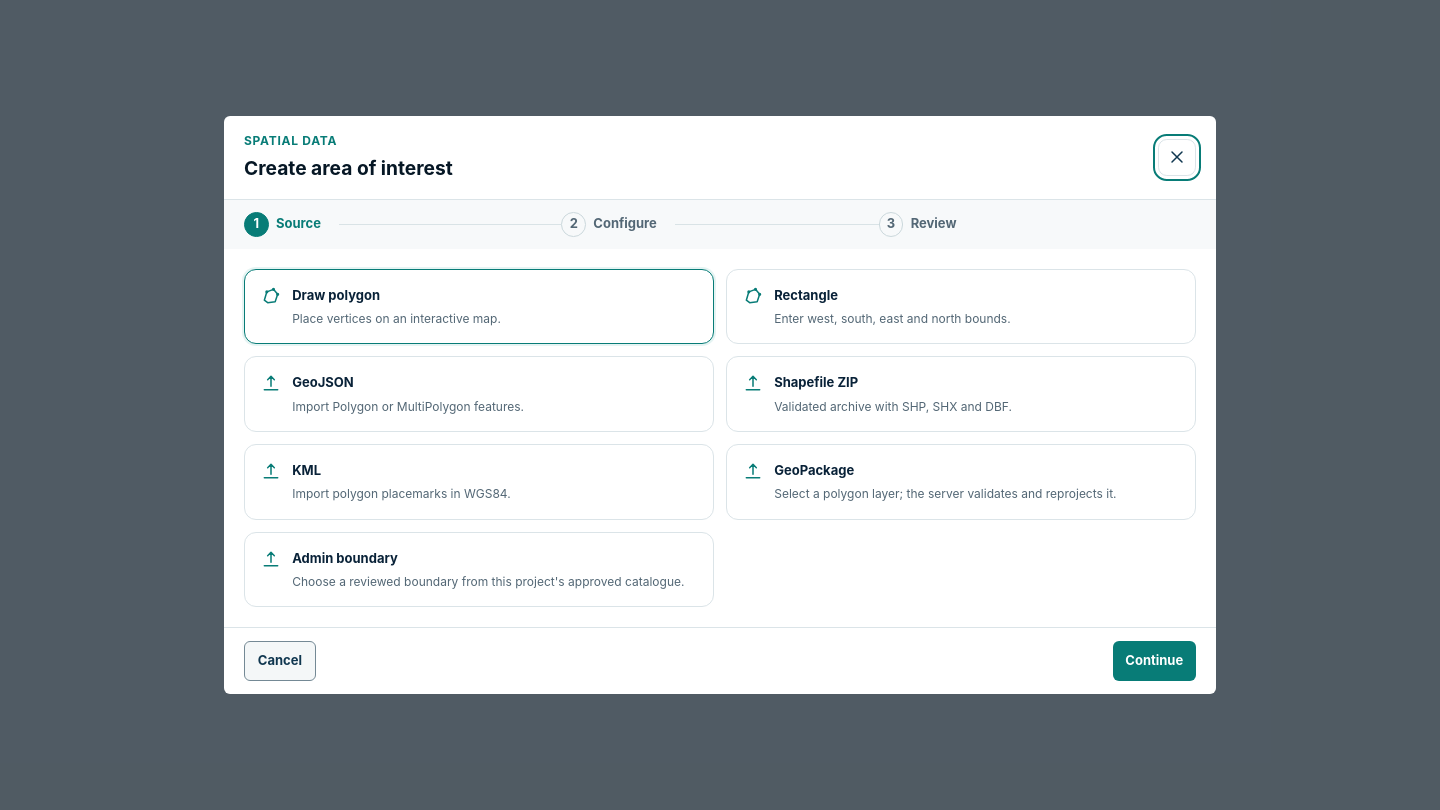
AOI creation wizard › exposes GeoPackage upload and approved administrative boundaries
Expected: the button "GeoPackage" is enabled, [726, 444, 1196, 520]
Expected: the button "Admin boundary" is enabled, [244, 532, 714, 607]
Click the button "GeoJSON Import Polygon or MultiPolygon features.". click: (323, 382)
box: [244, 356, 714, 432]
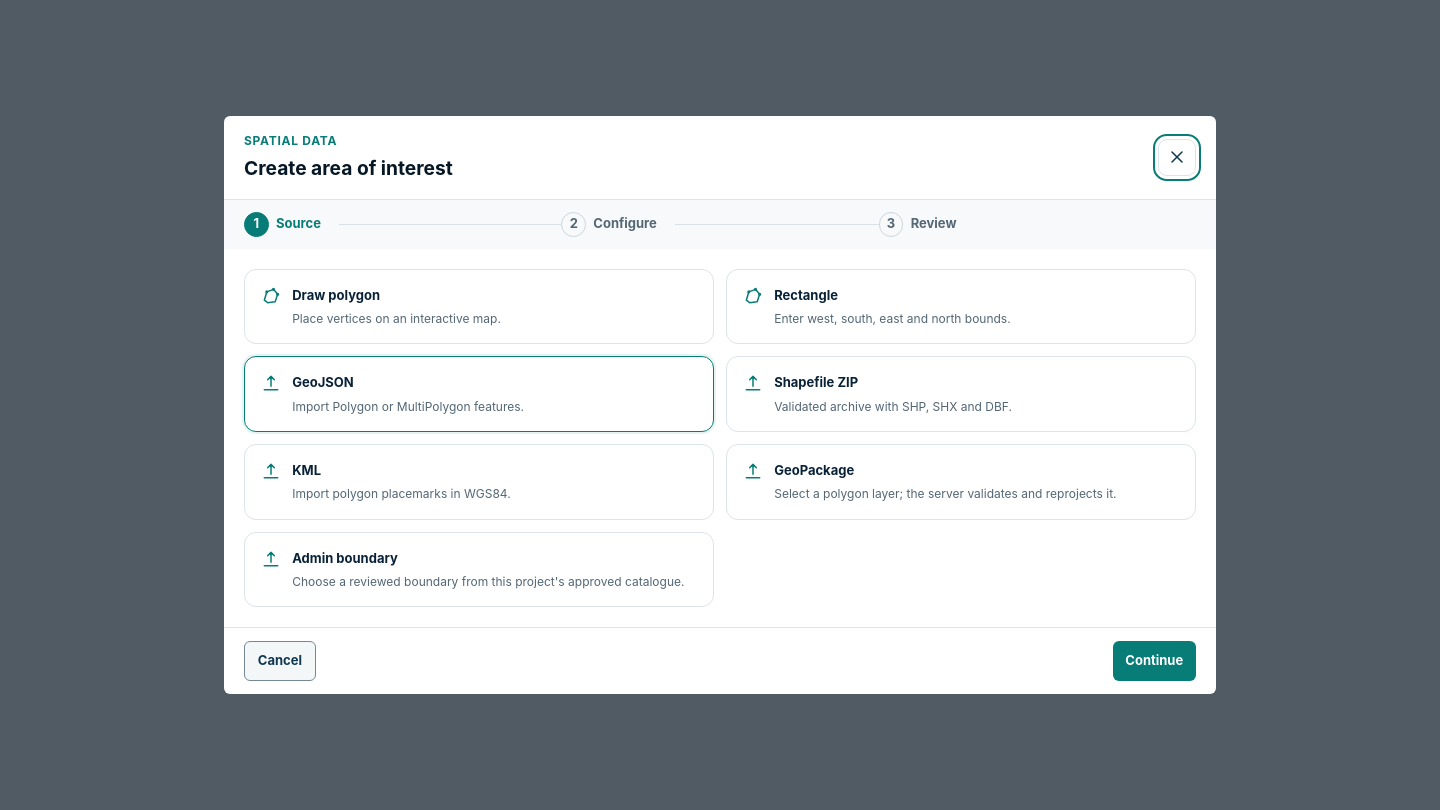
Click the button "Continue". click: (1154, 661)
box: [1112, 641, 1196, 681]
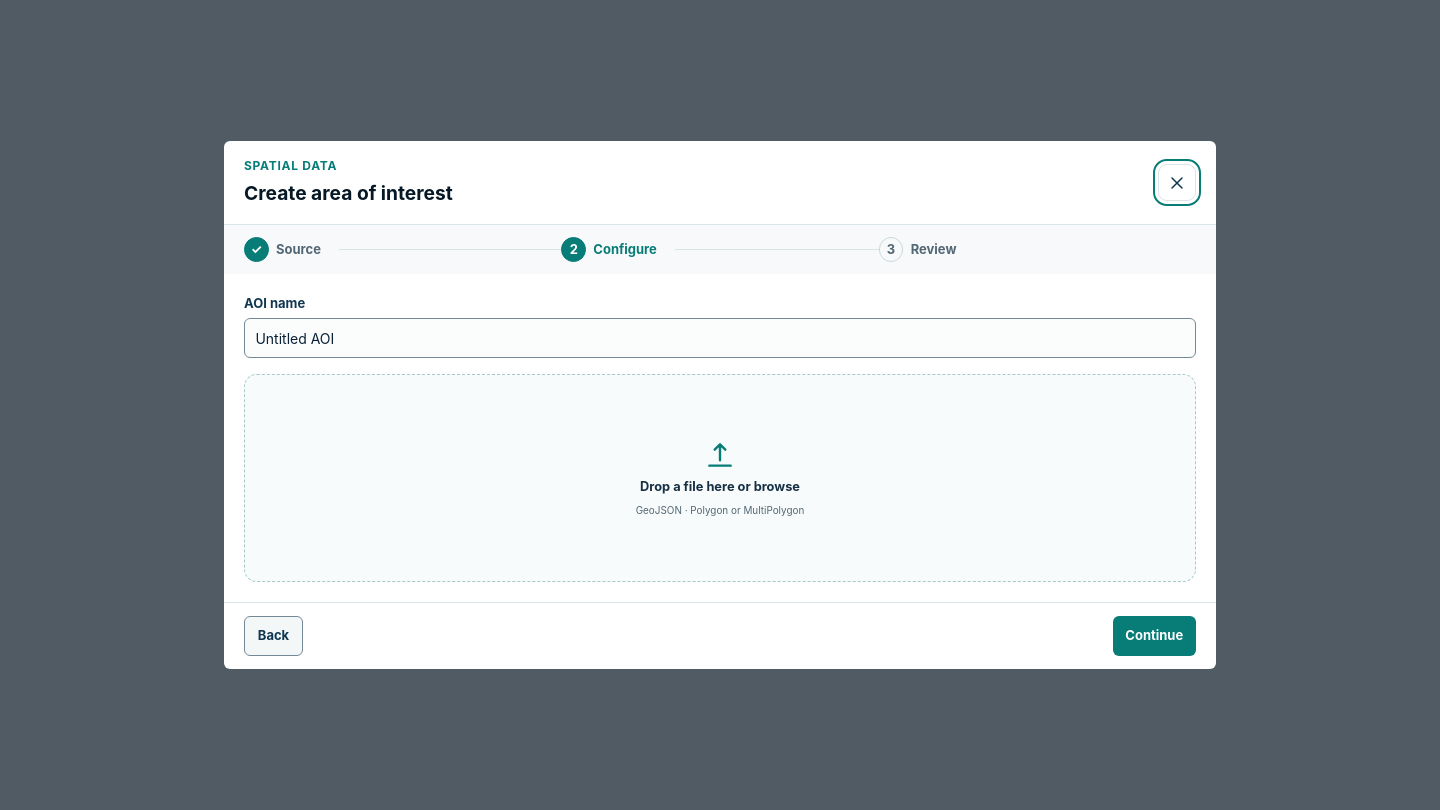
Result: the text "Drop a file here or browse" is shown at [640, 477, 800, 496]
Result: the text "GeoJSON · Polygon or MultiPolygon" is shown at [636, 503, 804, 518]
